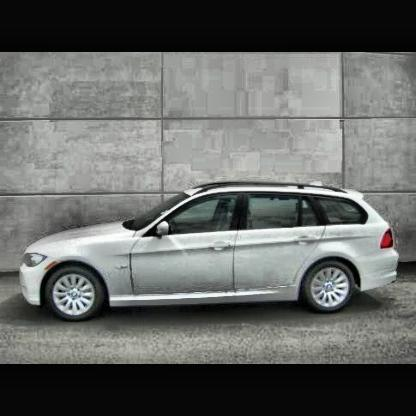BMW 3 Series Wagon 2012: (20, 181, 401, 325)
